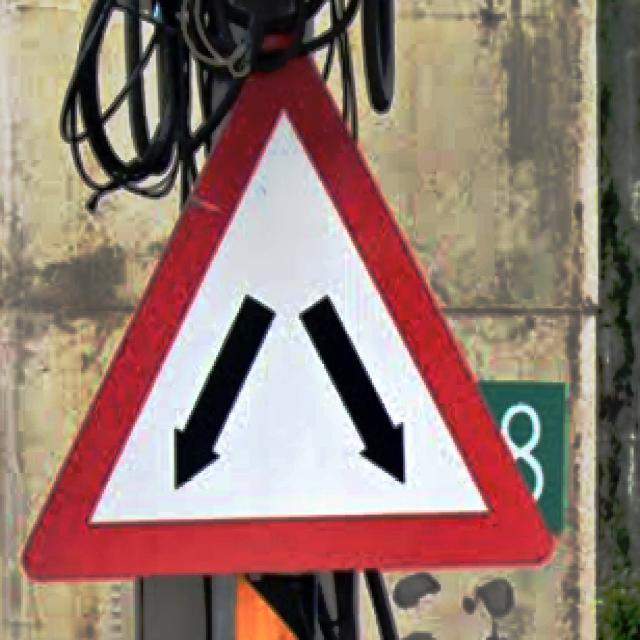diverge: (25, 35, 559, 584)
